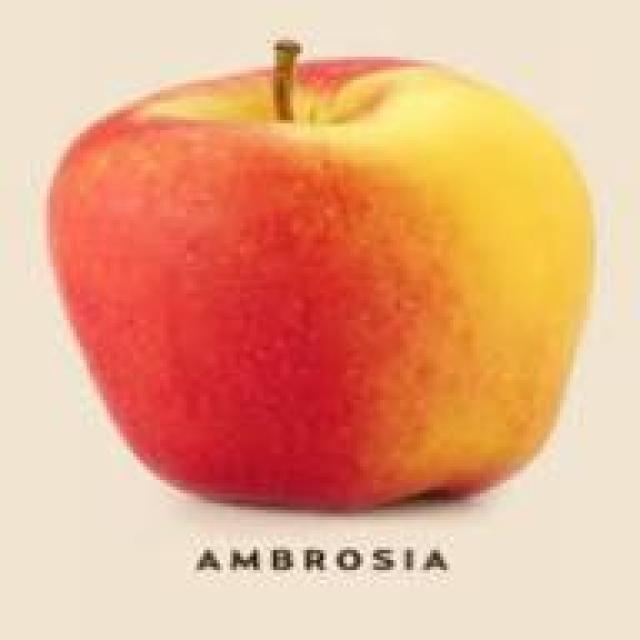apple: (70, 60, 563, 523)
